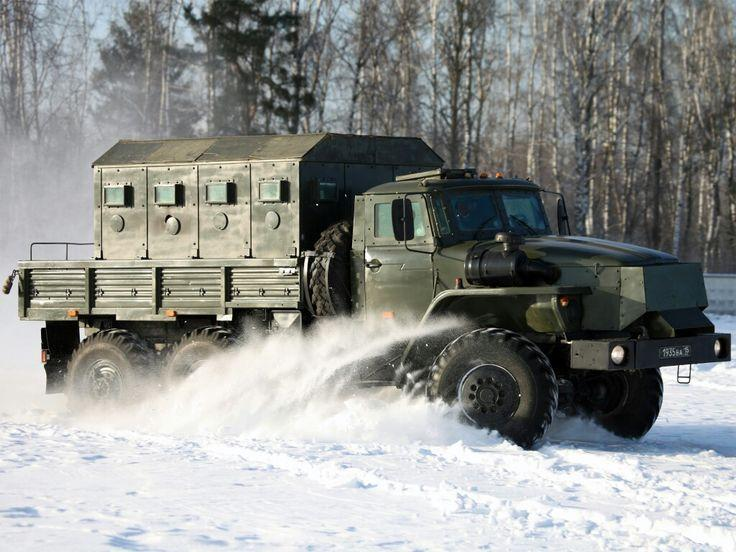truck: (0, 132, 732, 451)
